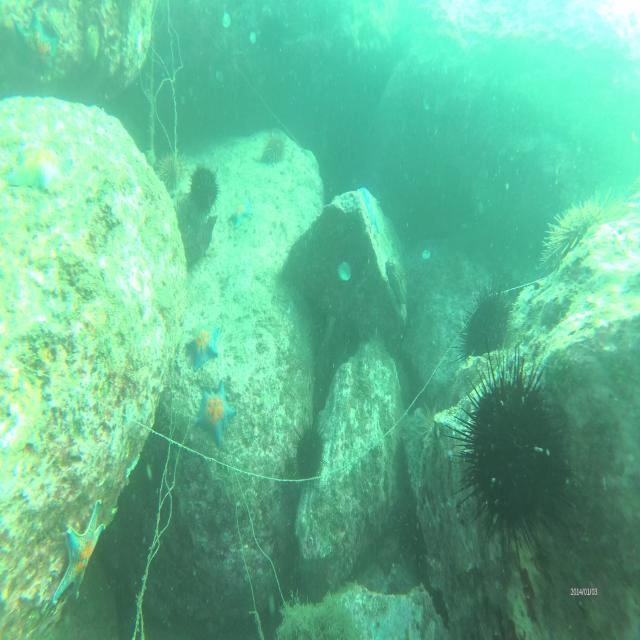echinus: (464, 365, 554, 527), (542, 196, 613, 272), (460, 286, 510, 356), (294, 421, 325, 482), (189, 166, 219, 213), (156, 152, 184, 190), (260, 134, 286, 165)
starfish: (54, 496, 107, 605), (9, 136, 69, 194), (12, 13, 62, 81), (198, 384, 236, 449), (185, 326, 222, 372), (355, 184, 380, 234), (228, 196, 253, 232)
